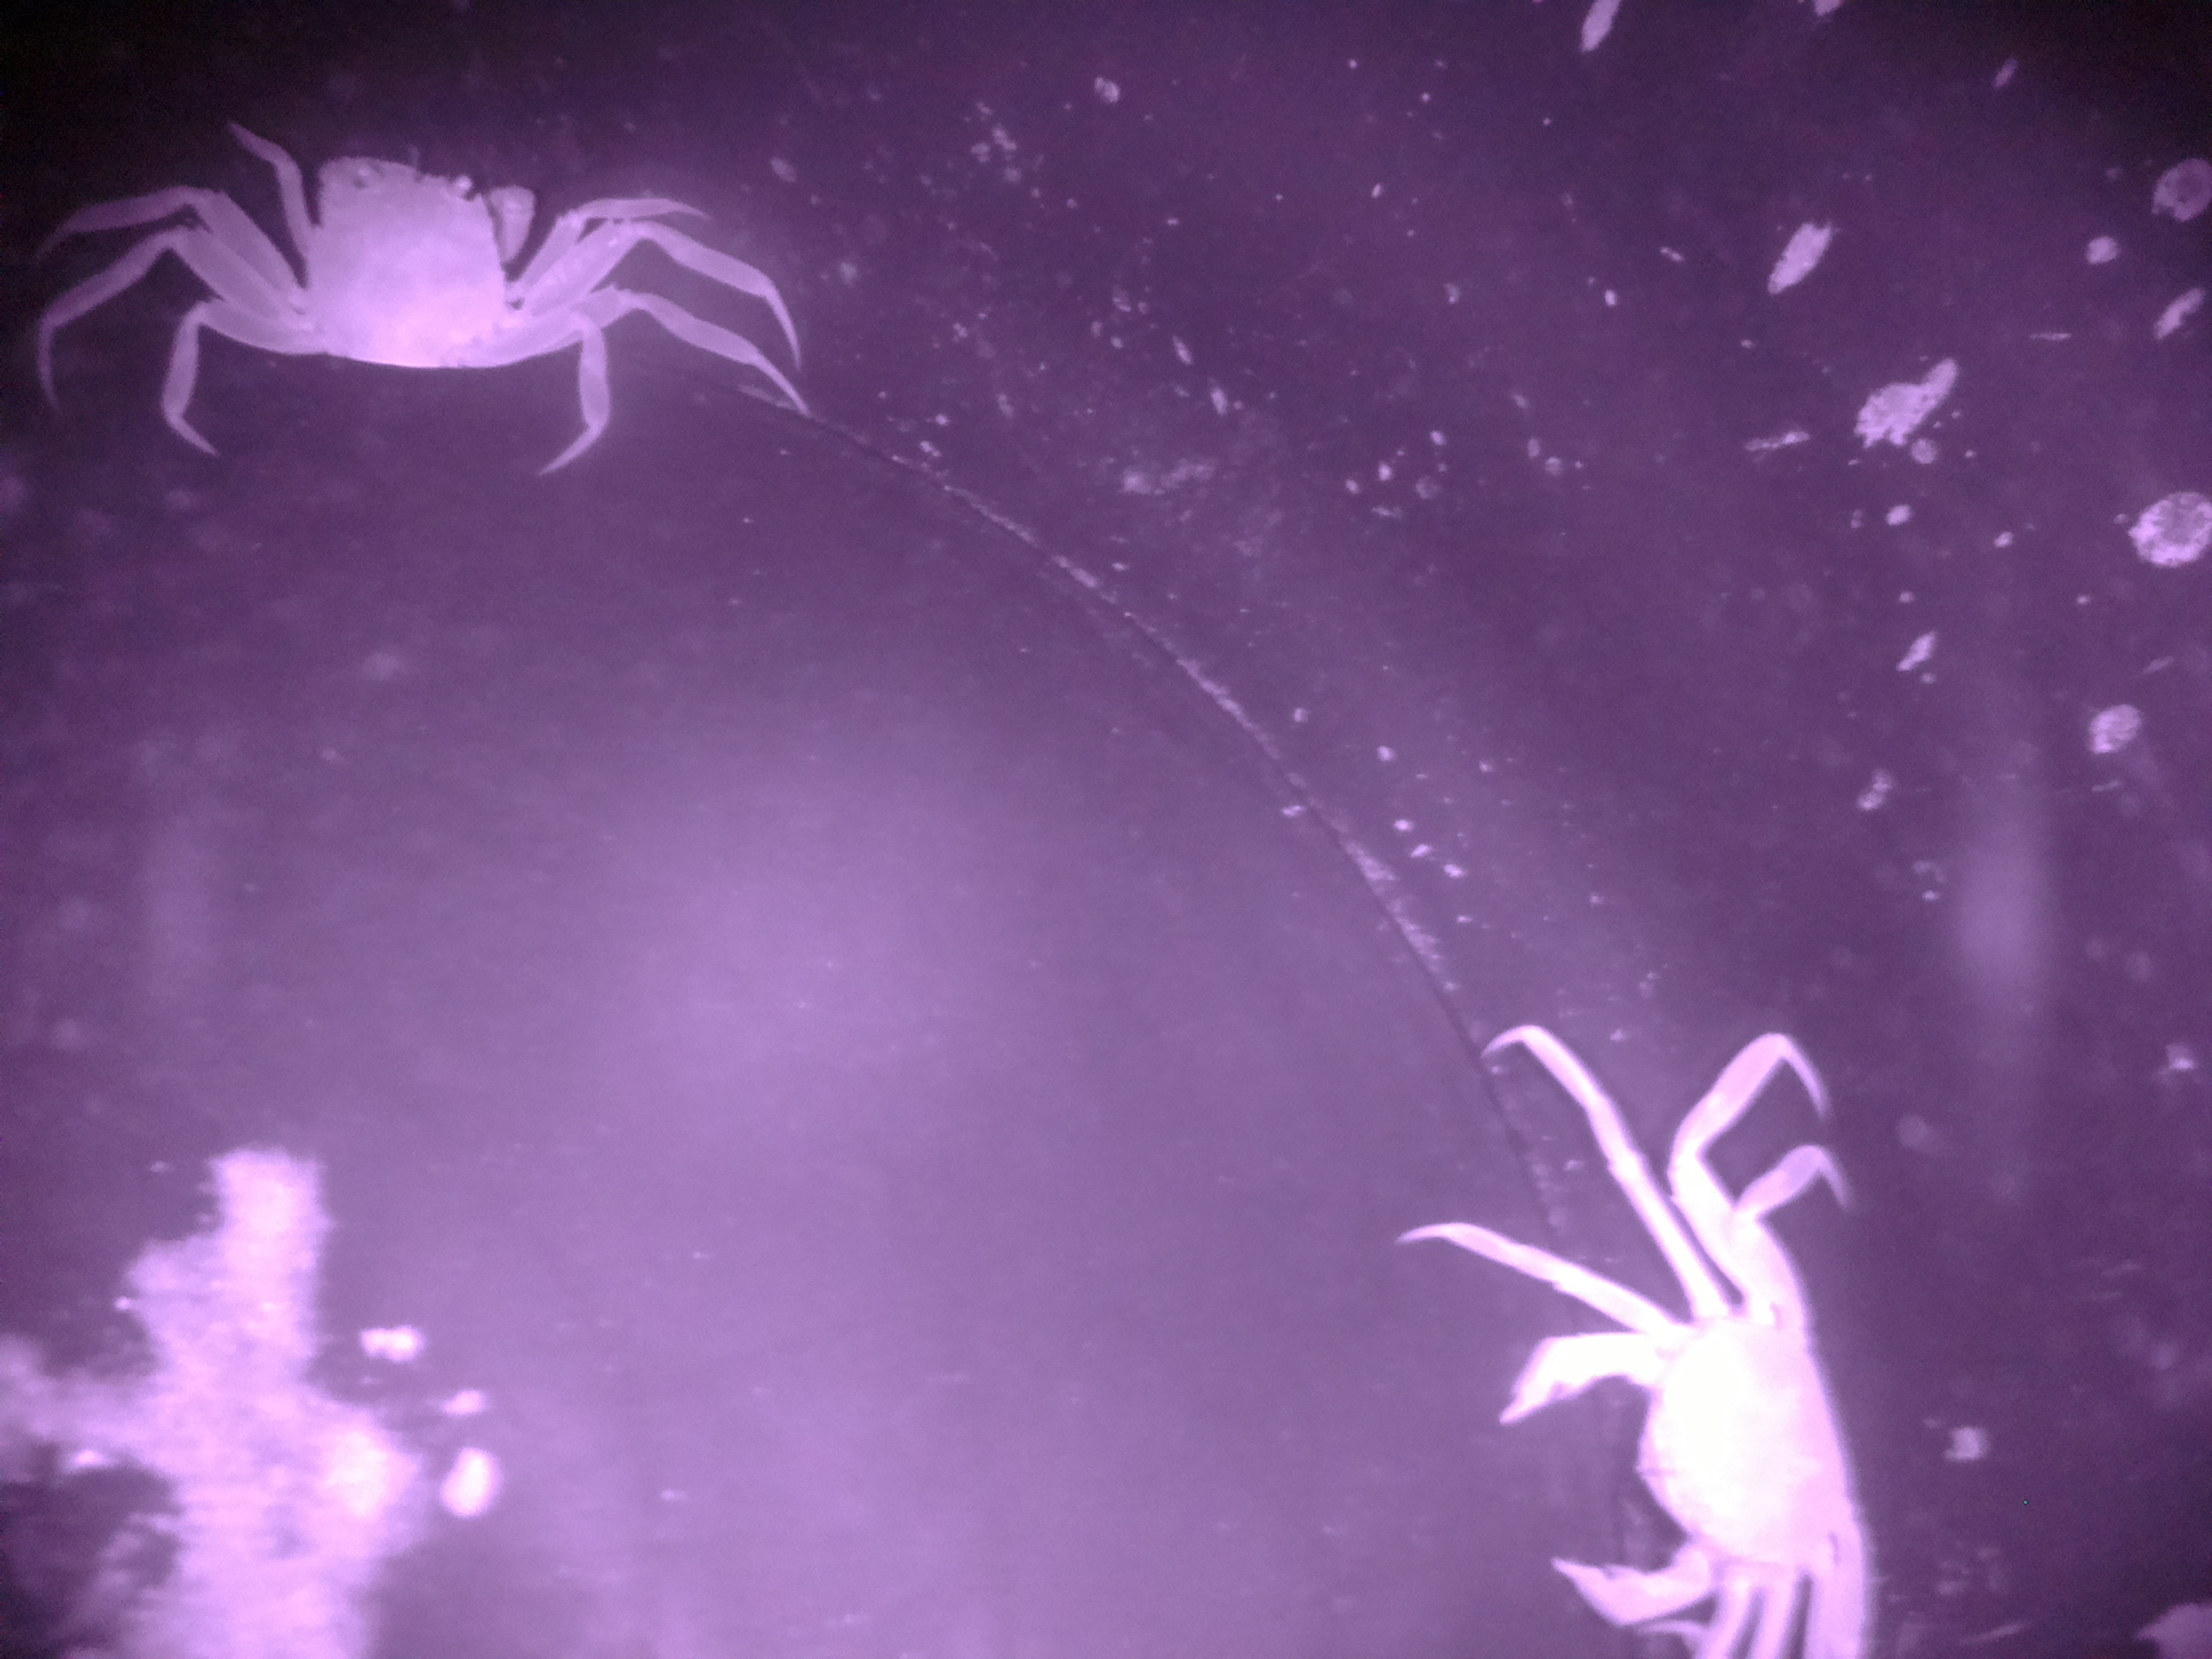Crab: (1428, 1138, 1984, 1659), (167, 64, 648, 505)
